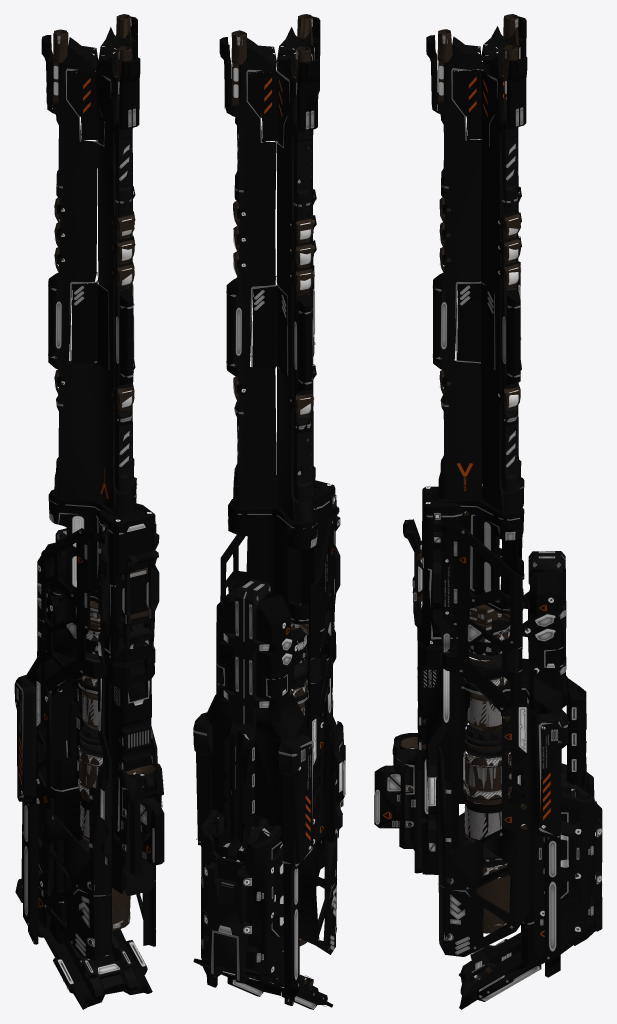
The model's file is cf-557-galdereen-repeater.glb.
3 views of the same model, side by side, from view 1: azimuth 30°, elevation 25°; view 2: azimuth 150°, elevation 25°; view 3: azimuth 270°, elevation 25° (orthographic).
Parts seen in each view (by area): view 1: KLWE_Las_Rep_S5_L1; view 2: KLWE_Las_Rep_S5_L1; view 3: KLWE_Las_Rep_S5_L1.
Part boxes in pixels (bbox=[...]): KLWE_Las_Rep_S5_L1: bbox=[14, 14, 164, 1009]; KLWE_Las_Rep_S5_L1: bbox=[193, 14, 345, 1009]; KLWE_Las_Rep_S5_L1: bbox=[374, 14, 602, 1009].
Bounding box in the file's own units: 0.9018 × 7.59 × 1.63.
9 materials, 6 textured.
